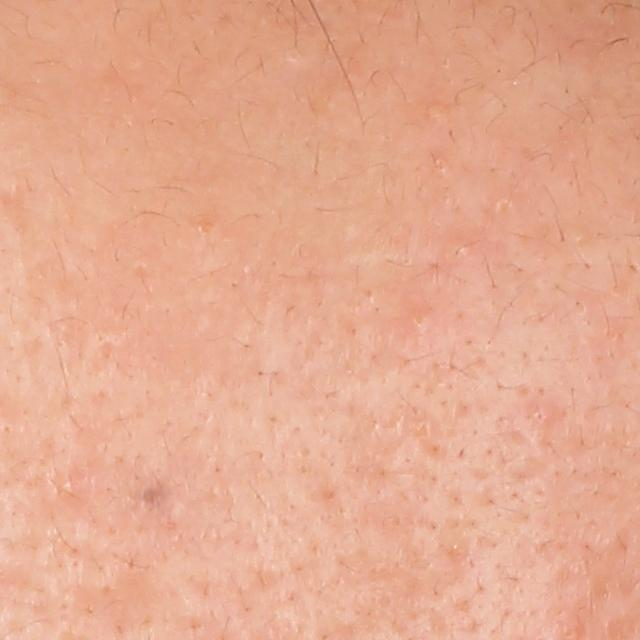comedo: (134, 475, 167, 511), (59, 474, 82, 501), (411, 311, 431, 333)
